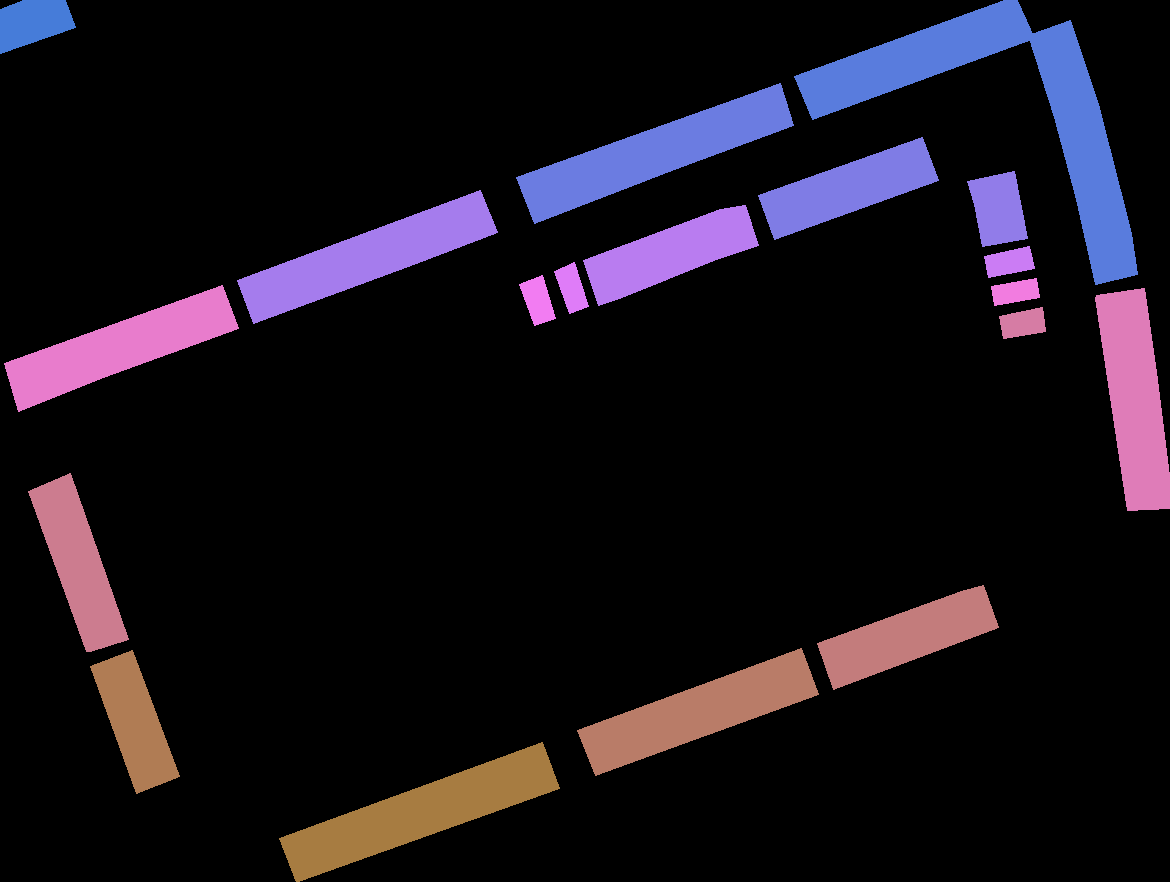parkingspot: (279, 742, 559, 882), (516, 83, 793, 223), (237, 190, 497, 323), (577, 648, 818, 775), (4, 285, 238, 411), (1028, 20, 1137, 284), (794, 0, 1034, 119), (817, 585, 998, 689), (758, 137, 938, 239), (28, 473, 128, 651), (583, 205, 758, 305), (1095, 288, 1170, 510), (90, 650, 179, 793), (967, 171, 1027, 246), (0, 0, 75, 53), (519, 275, 555, 325), (554, 262, 588, 313), (984, 246, 1034, 277), (999, 307, 1045, 338), (991, 278, 1039, 305)
